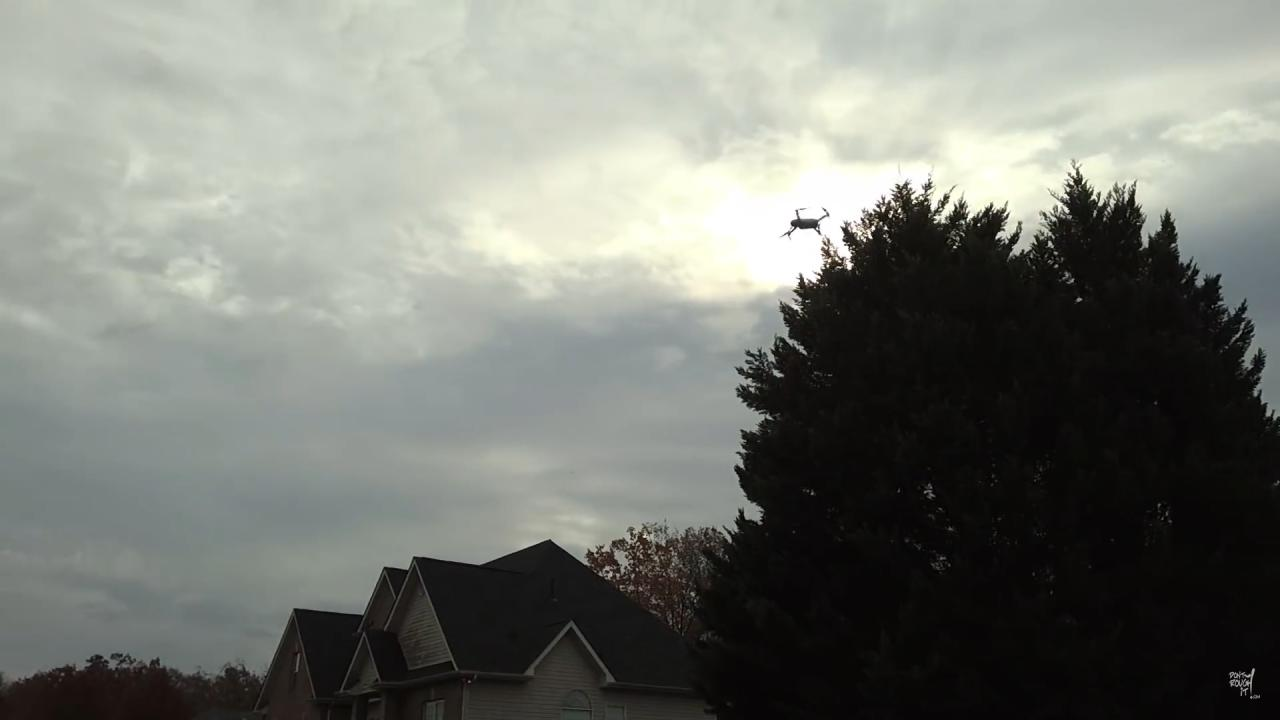Drone: (768, 194, 846, 251)
